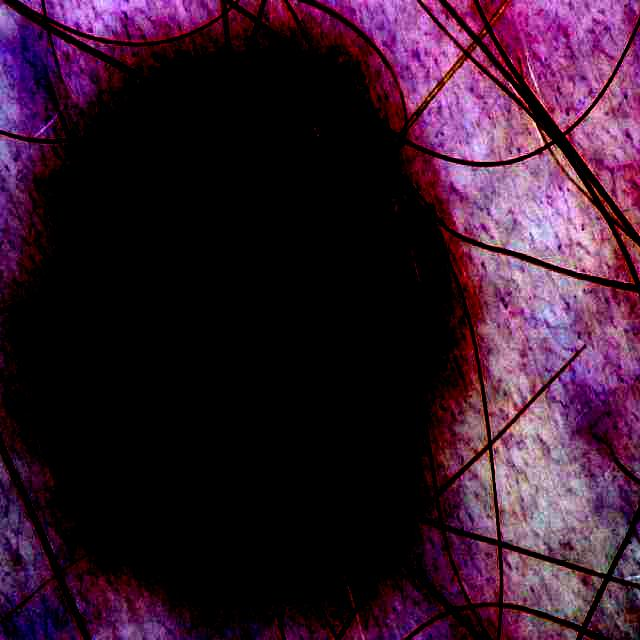NV: (19, 14, 441, 617)
